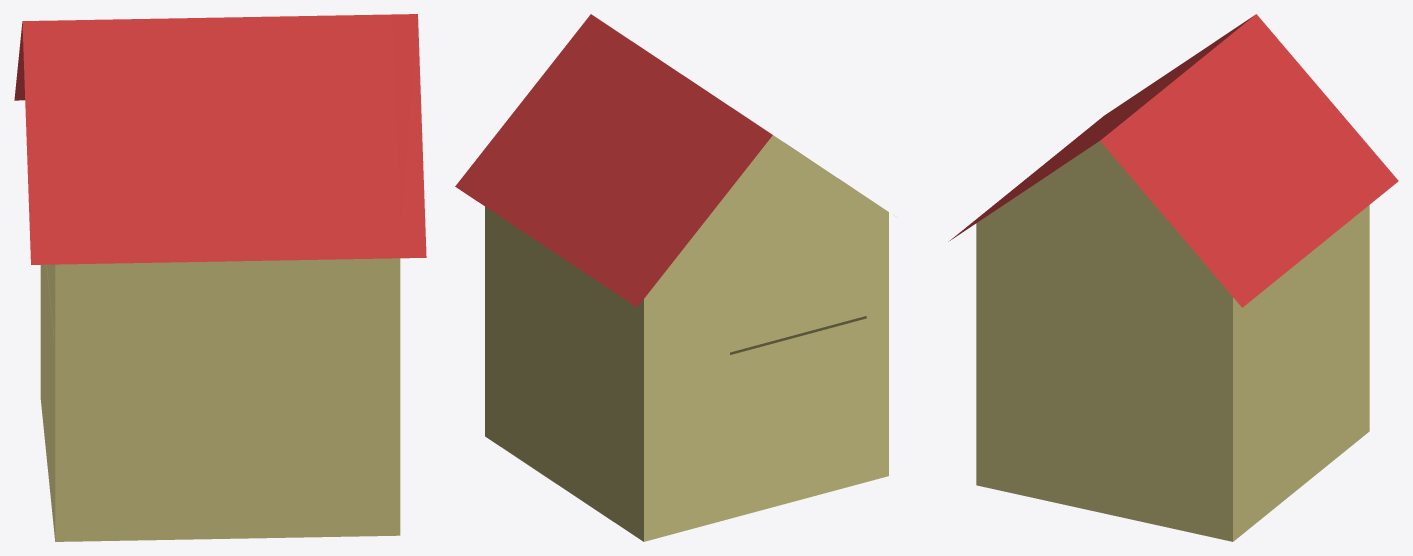
The picture shows the model from 3 angles, left to right: view 1: azimuth 30°, elevation 25°; view 2: azimuth 150°, elevation 25°; view 3: azimuth 270°, elevation 25°; orthographic projection. The views are drawn at different scales.
Size of the model in its own units: 15.76 by 15.68 by 14.63.
